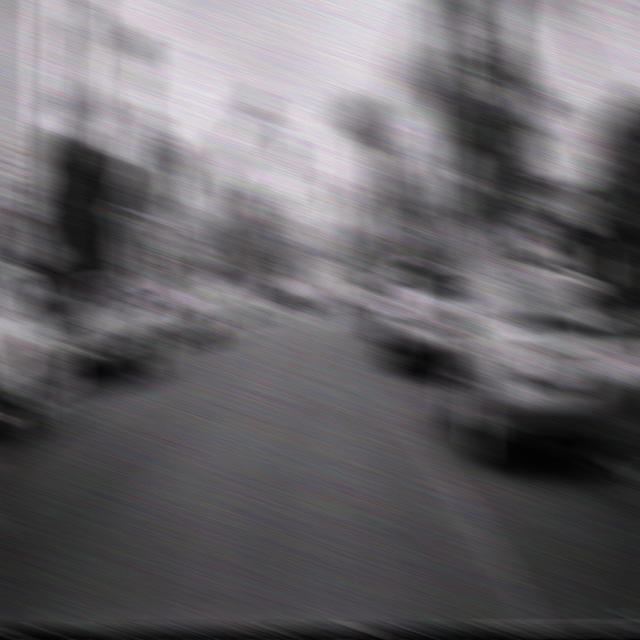stop_sign: (381, 225, 407, 256)
